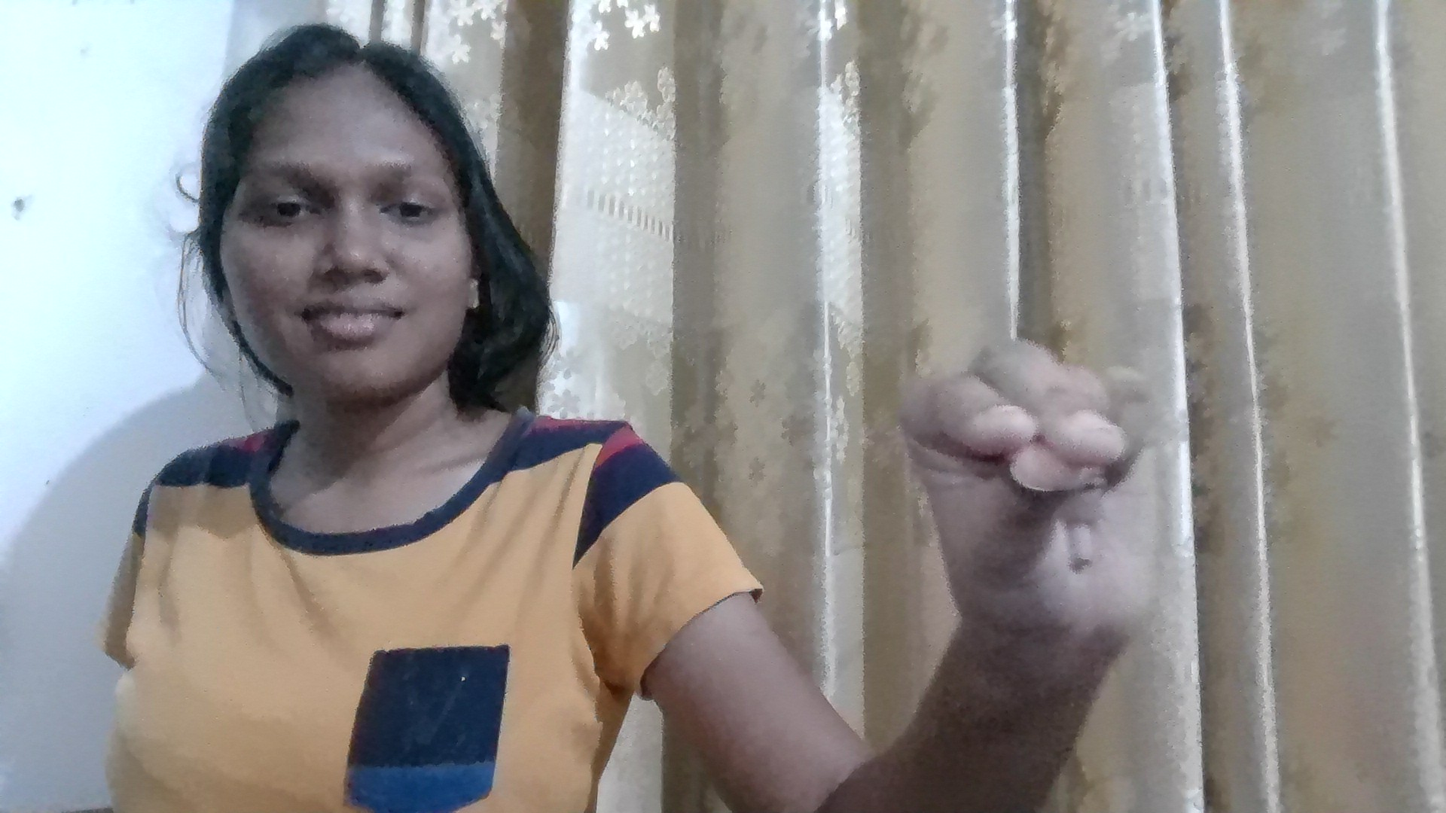No: (885, 283, 1278, 739)
